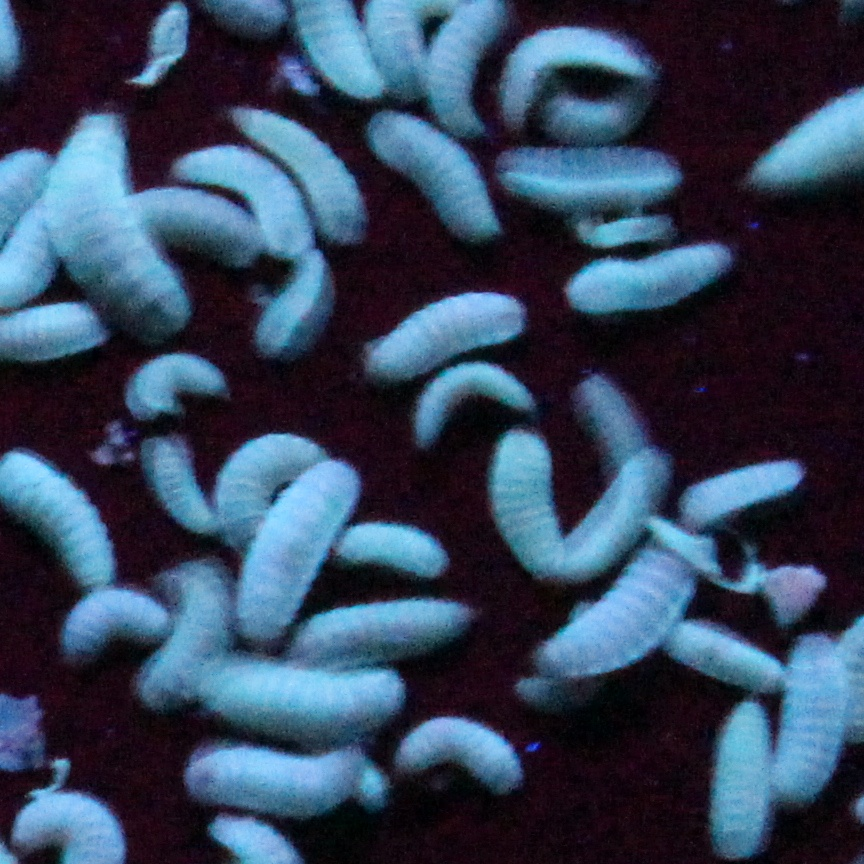larve: (75, 126, 193, 318), (239, 99, 368, 233), (583, 372, 666, 570), (568, 555, 690, 679), (383, 111, 502, 228), (249, 487, 341, 635), (24, 460, 110, 584), (217, 660, 383, 723), (219, 435, 307, 543), (224, 143, 322, 238), (156, 179, 268, 257), (502, 431, 566, 567), (407, 721, 527, 789), (424, 355, 519, 438), (154, 579, 219, 699), (305, 604, 473, 650), (515, 155, 680, 201), (580, 243, 727, 294), (190, 750, 351, 796), (690, 448, 797, 516), (515, 35, 644, 89), (388, 306, 512, 362), (790, 645, 832, 801), (695, 621, 780, 684), (724, 716, 763, 850), (268, 257, 324, 340), (558, 89, 649, 138), (63, 599, 158, 645), (139, 360, 227, 406), (358, 528, 446, 567), (163, 445, 205, 526), (590, 216, 671, 240)
